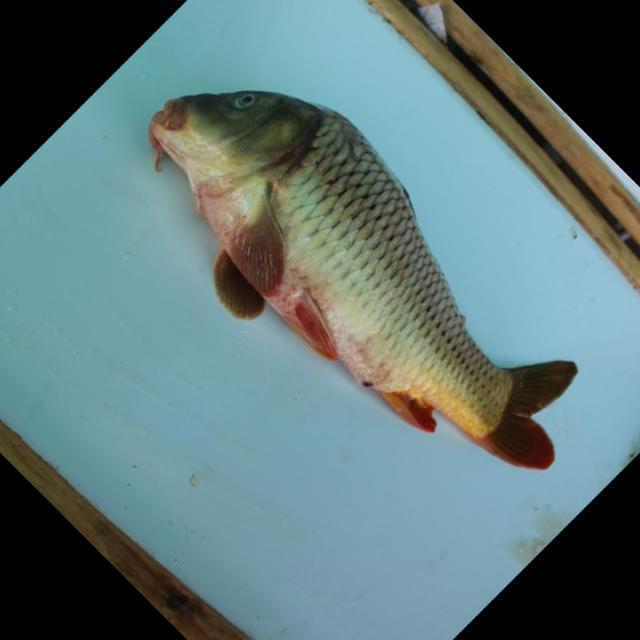CommonCarp: (142, 82, 581, 475)
